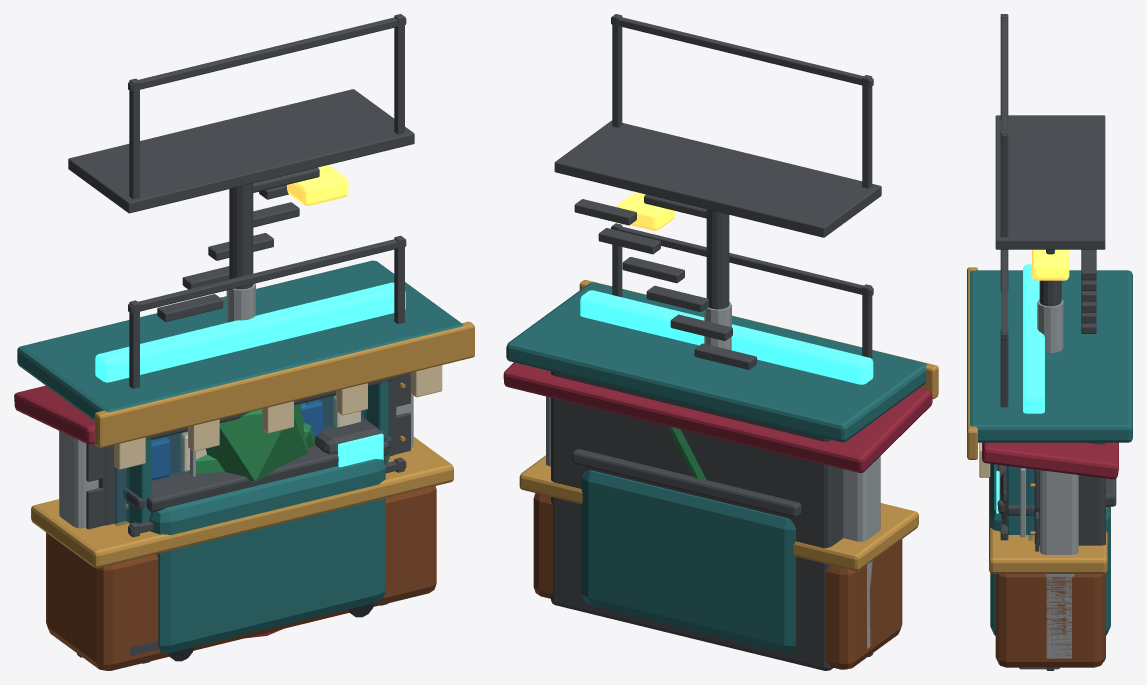
Rendered from infinite_backlot_detail_kit.glb.
3 renders of one model, left to right at view 1: azimuth 30°, elevation 25°; view 2: azimuth 150°, elevation 25°; view 3: azimuth 270°, elevation 25°, orthographic. The views are drawn at different scales.
Parts seen in each view (by area): view 1: Body.001, Canopy, Landing.002, Counter, CanopyTrim, Top, Header, Leaves, Lid, Rail.002, Rail.001, Bank (+25 smaller); view 2: Body.001, Case.001, Canopy, Landing.002, Awning, Counter, Header, Top, Lid, Bank, Rail.002, Pole (+14 smaller); view 3: Canopy, Landing.002, Counter, Bank, Awning, Top, Header, Case.001, Body.001, Upright.001, Lamp, DrainPipe (+13 smaller).
Part boxes in pixels (bbox=[...]): Body.001: bbox=[149, 459, 385, 653]; Canopy: bbox=[17, 260, 462, 420]; Landing.002: bbox=[68, 89, 414, 213]; Counter: bbox=[46, 486, 436, 670]; CanopyTrim: bbox=[94, 321, 474, 447]; Top: bbox=[31, 437, 453, 568]; Header: bbox=[95, 282, 405, 382]; Leaves: bbox=[206, 403, 308, 482]; Lid: bbox=[146, 441, 388, 511]; Rail.002: bbox=[128, 17, 406, 91]; Rail.001: bbox=[128, 239, 406, 313]; Bank: bbox=[59, 394, 413, 641]; Body.001: bbox=[581, 470, 795, 652]; Case.001: bbox=[551, 371, 840, 670]; Canopy: bbox=[506, 282, 927, 442]; Landing.002: bbox=[554, 120, 881, 237]; Awning: bbox=[503, 362, 932, 472]; Counter: bbox=[533, 493, 902, 669]; Header: bbox=[580, 290, 873, 384]; Top: bbox=[519, 455, 918, 570]; Lid: bbox=[572, 449, 801, 517]; Bank: bbox=[546, 396, 880, 648]; Rail.002: bbox=[611, 17, 873, 87]; Pole: bbox=[706, 209, 729, 309]; Canopy: bbox=[970, 270, 1132, 442]; Landing.002: bbox=[995, 115, 1105, 249]; Counter: bbox=[995, 574, 1105, 667]; Bank: bbox=[1040, 470, 1078, 658]; Awning: bbox=[982, 442, 1118, 479]; Top: bbox=[989, 477, 1107, 573]; Header: bbox=[1023, 264, 1044, 413]; Case.001: bbox=[1034, 442, 1105, 661]; Body.001: bbox=[990, 464, 1110, 635]; Upright.001: bbox=[1006, 466, 1034, 534]; Lamp: bbox=[1032, 249, 1069, 280]; DrainPipe: bbox=[1037, 299, 1063, 353].
Size of the model in its own units: 3.6 by 5.34 by 1.51.
